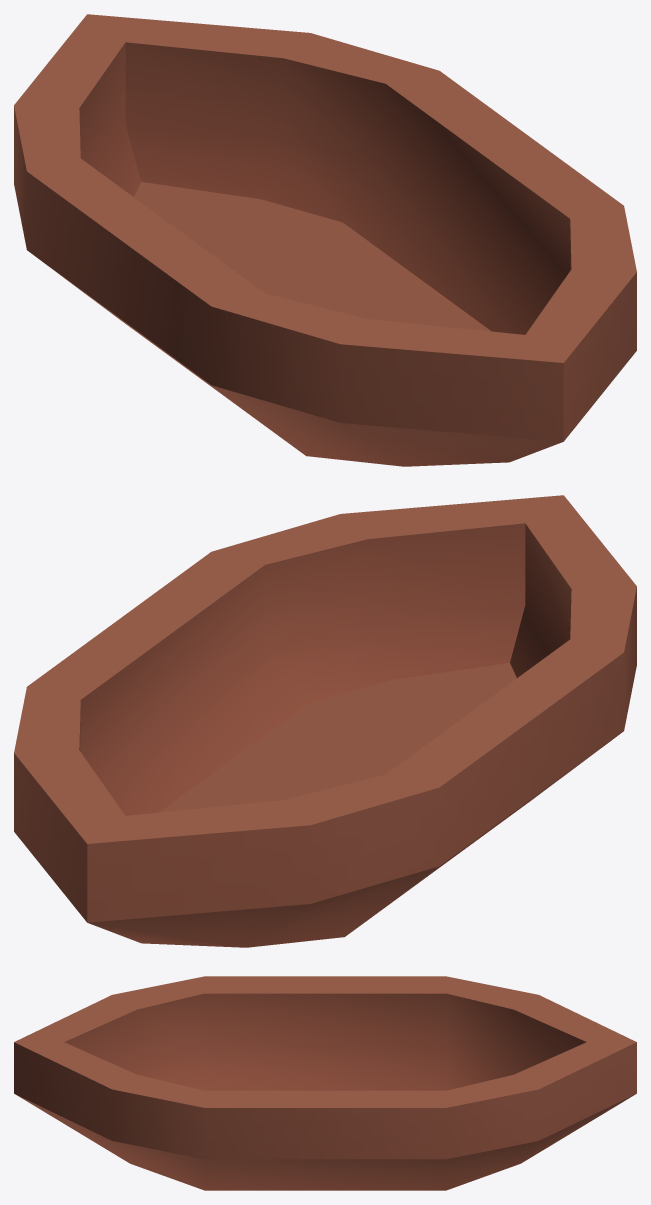
The model's file is boat.glb.
3 views of the same model, one above another, from view 1: azimuth 30°, elevation 25°; view 2: azimuth 150°, elevation 25°; view 3: azimuth 270°, elevation 25° (orthographic). The views are drawn at different scales.
Parts seen in each view (by area): view 1: boat; view 2: boat; view 3: boat.
Part boxes in pixels (x1,y1,x2,y2): boat: (14,14,636,466); boat: (14,495,636,947); boat: (14,976,636,1190).
Bounding box in the file's own units: 0.3 × 0.12 × 0.6.
Materials: 1 (1 with a texture image).
